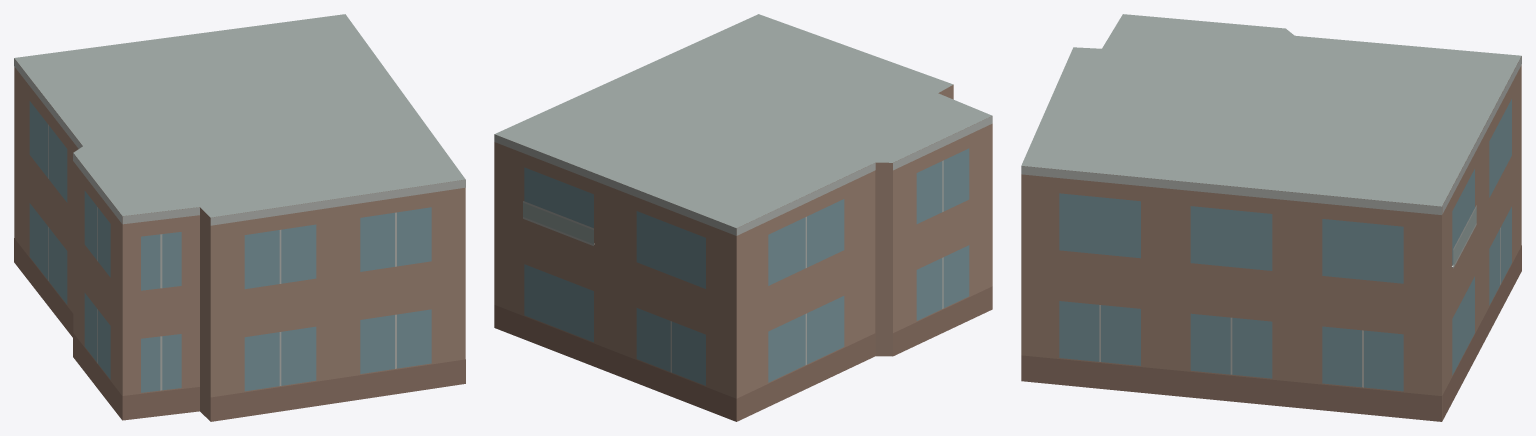
Rendered from survey-upis-32656230.glb.
The picture shows the model from 3 angles, left to right: view 1: azimuth 30°, elevation 25°; view 2: azimuth 150°, elevation 25°; view 3: azimuth 270°, elevation 25°; orthographic projection. The views are drawn at different scales.
Parts seen in each view (by area): view 1: survey-upis-32656230.tmp; view 2: survey-upis-32656230.tmp; view 3: survey-upis-32656230.tmp.
Boxes of the visible parts, <box> form: survey-upis-32656230.tmp: <box>14,14,465,421</box>; survey-upis-32656230.tmp: <box>494,14,992,421</box>; survey-upis-32656230.tmp: <box>1021,14,1521,421</box>.
Size of the model in its own units: 11.71 by 6.1 by 12.86.
